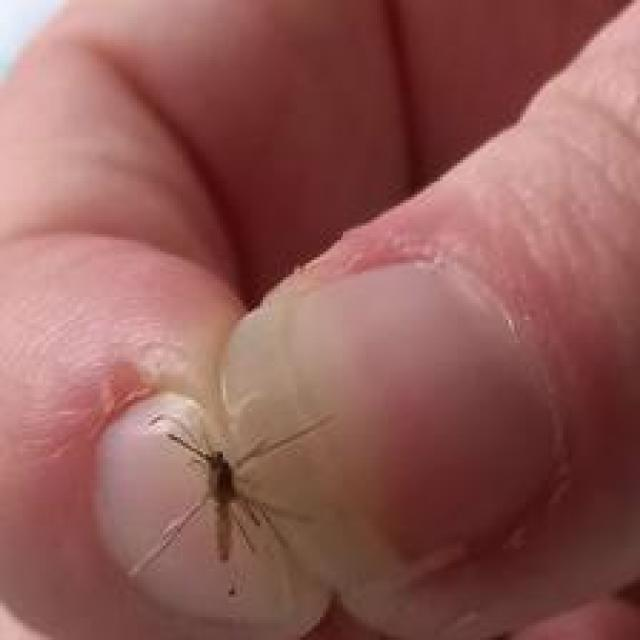Culex: (94, 380, 346, 637)
